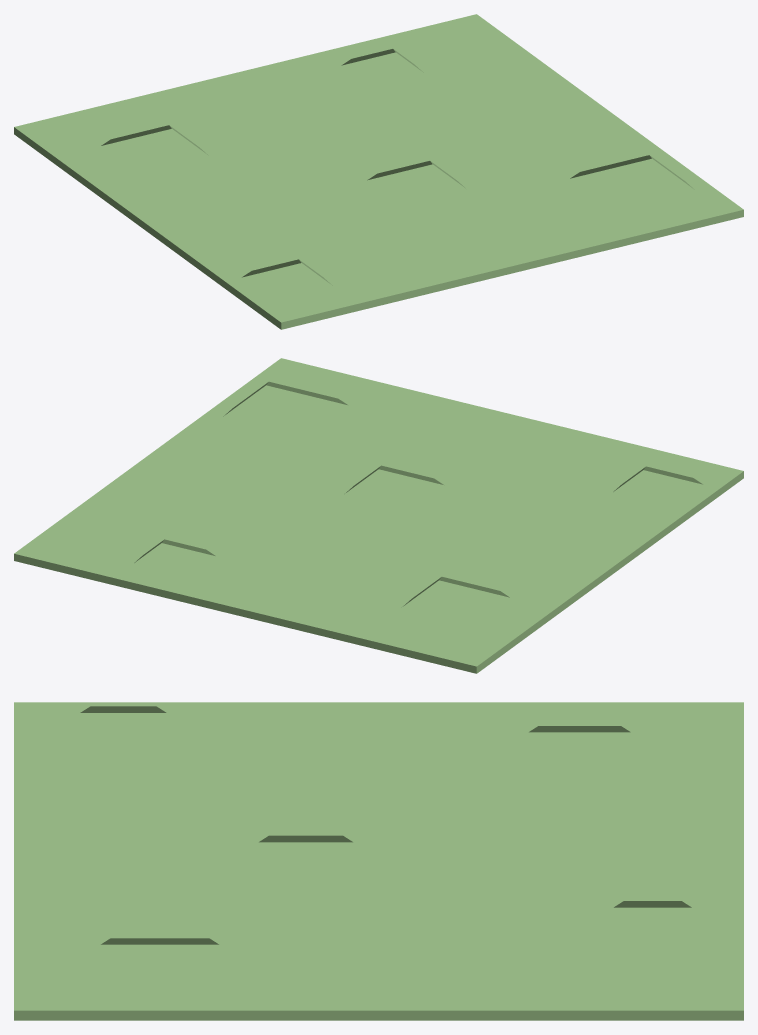
Rendered from dog-agility-and-training-field-grass-ground-tile-ba799d86__35593.glb.
3 views of the same model, one above another, from view 1: azimuth 30°, elevation 25°; view 2: azimuth 150°, elevation 25°; view 3: azimuth 270°, elevation 25° (orthographic). The views are drawn at different scales.
Visible parts, largest first — view 1: grass-ground-tile-grass; view 2: grass-ground-tile-grass; view 3: grass-ground-tile-grass.
Part boxes in pixels (x1,y1,x2,y2): grass-ground-tile-grass: [14, 14, 743, 329]; grass-ground-tile-grass: [14, 358, 743, 673]; grass-ground-tile-grass: [14, 702, 743, 1020].
Size of the model in its own units: 4 by 0.126 by 4.
